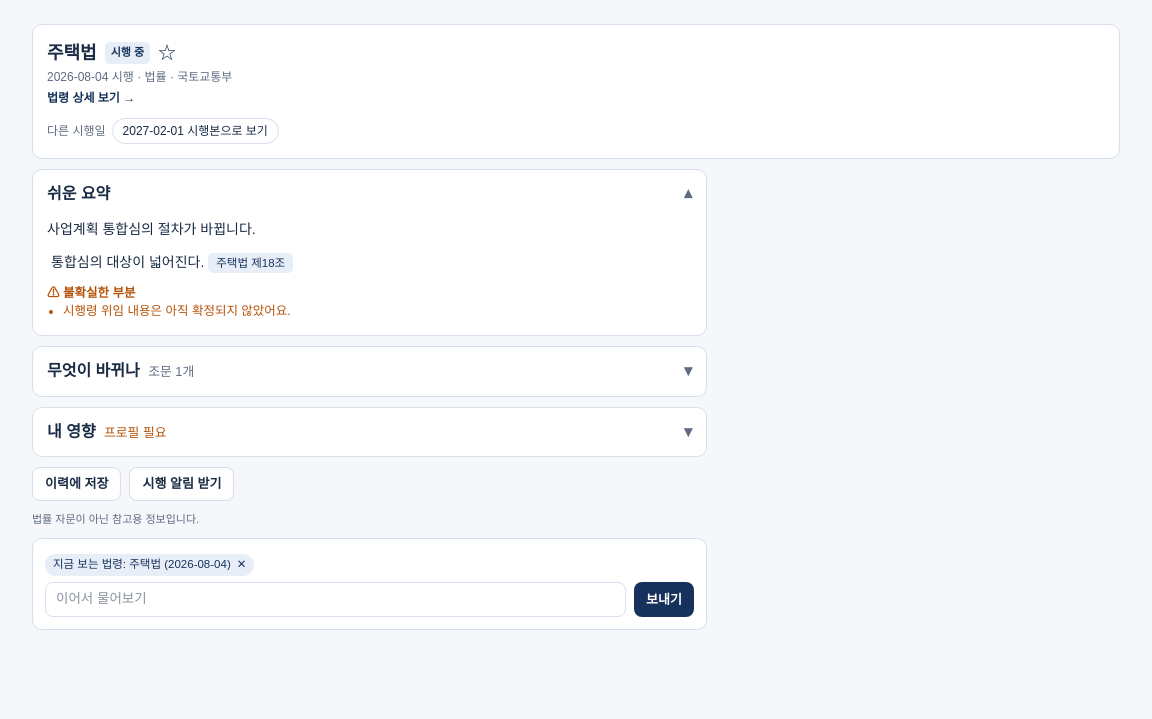
Test case: ResultView — 모바일 › 바뀐 조문 펼치면 현행·개정 대비(바뀐 구간 강조)
This screenshot has width=1152, height=719.
Step 1. Click the button "무엇이 바뀌나 조문 1개 ▾" → {"x": 93, "y": 370}, box x1=33 y1=347 x2=706 y2=396
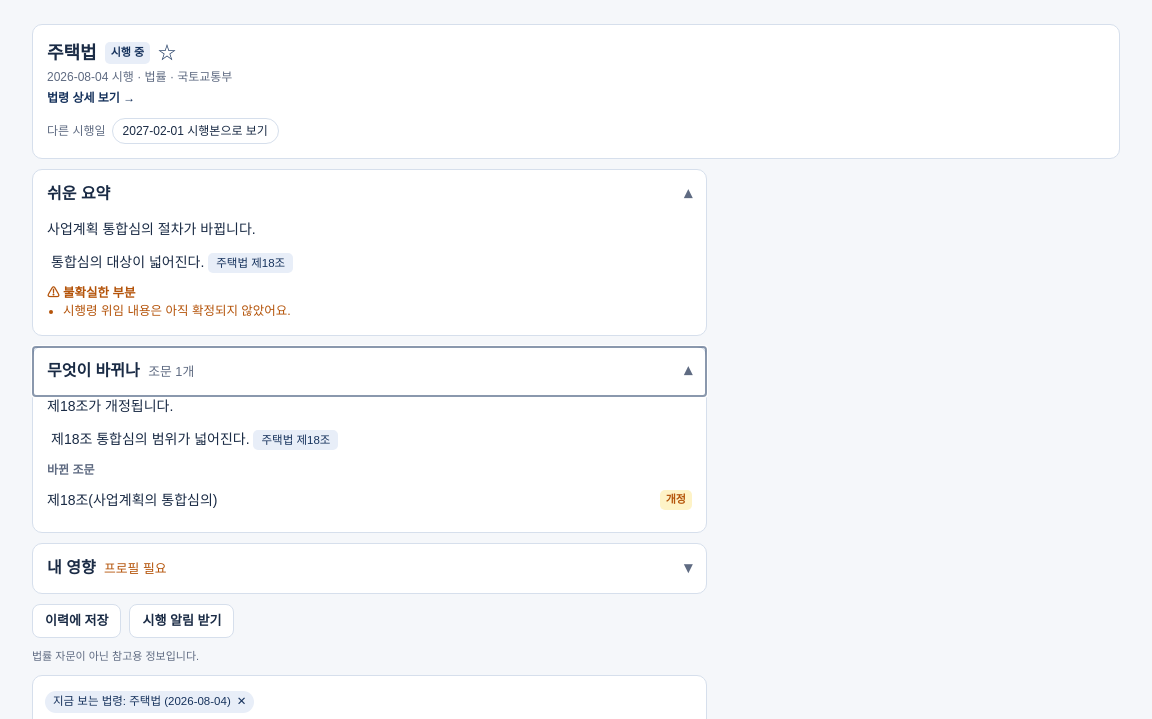
Step 2. Click the button "제18조(사업계획의 통합심의) 개정" → {"x": 132, "y": 500}, box x1=47 y1=482 x2=692 y2=518
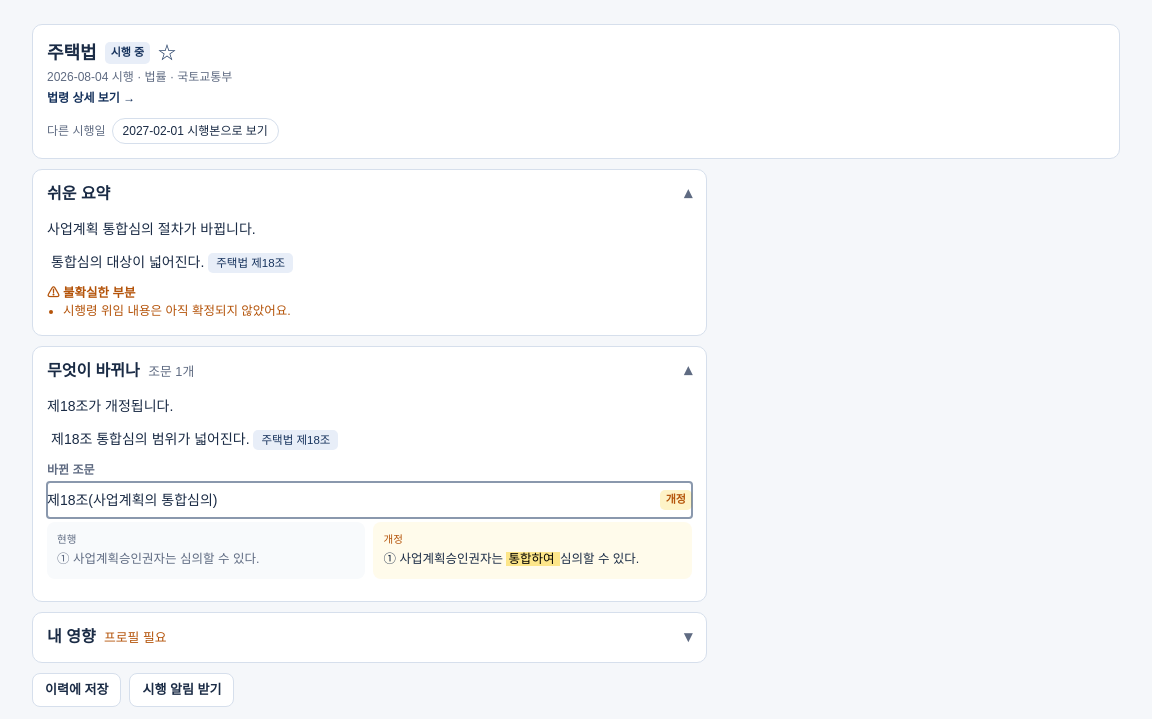
Expected: the text "통합하여" is shown, x1=506 y1=552 x2=560 y2=566
